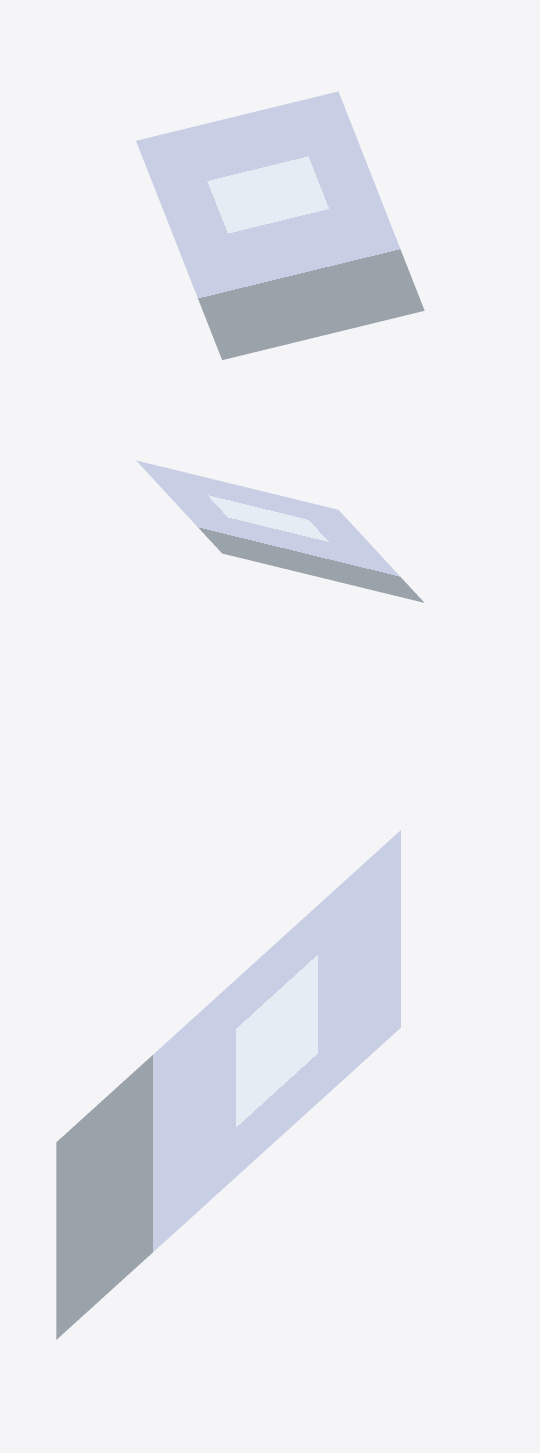
3 views of the same model, one above another, from view 1: azimuth 30°, elevation 25°; view 2: azimuth 150°, elevation 25°; view 3: azimuth 270°, elevation 25° (orthographic). The views are drawn at different scales.
Bounding box in the file's own units: 0.5 × 0.2285 × 0.2285.
1 material, 1 textured.
